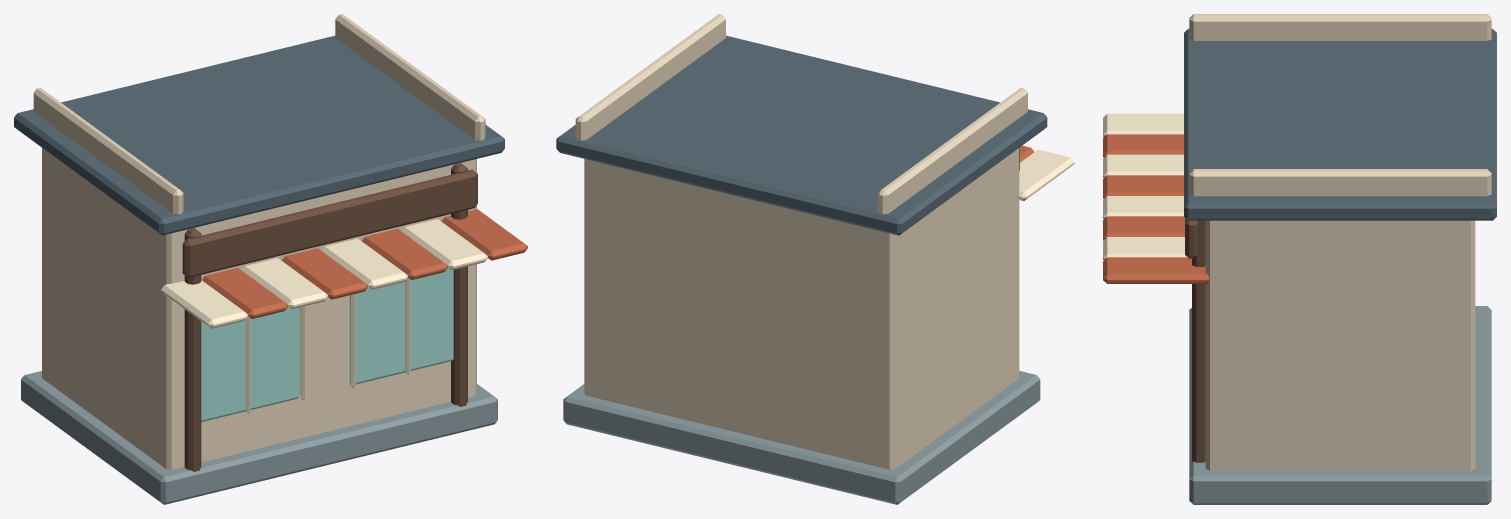
The model's file is detailed-storefront.glb.
3 renders of one model, left to right at view 1: azimuth 30°, elevation 25°; view 2: azimuth 150°, elevation 25°; view 3: azimuth 270°, elevation 25°, orthographic. The views are drawn at different scales.
Visible parts, largest first — view 1: shop-walls, flat-roof, shop-base, shop-sign, shop-window.001, shop-window, roof-trim, roof-trim.001, shop-corner, shop-corner.001, striped-canopy, striped-canopy.006 (+7 smaller); view 2: shop-walls, flat-roof, shop-base, roof-trim.001, roof-trim, striped-canopy; view 3: shop-walls, flat-roof, shop-base, roof-trim.001, roof-trim, shop-corner.001, striped-canopy.007, striped-canopy, striped-canopy.002, striped-canopy.006, striped-canopy.005, striped-canopy.001 (+3 smaller).
Part boxes in pixels (<box>): shop-walls: <box>42,148,476,469</box>; flat-roof: <box>14,35,504,235</box>; shop-base: <box>21,371,497,504</box>; shop-sign: <box>182,169,477,277</box>; shop-window.001: <box>349,268,453,384</box>; shop-window: <box>201,307,300,421</box>; roof-trim: <box>33,87,183,214</box>; roof-trim.001: <box>335,14,485,140</box>; shop-corner: <box>184,228,201,471</box>; shop-corner.001: <box>451,163,467,406</box>; striped-canopy: <box>161,280,248,328</box>; striped-canopy.006: <box>401,219,487,270</box>; shop-walls: <box>584,148,1019,469</box>; flat-roof: <box>556,35,1047,235</box>; shop-base: <box>563,371,1040,504</box>; roof-trim.001: <box>575,14,725,140</box>; roof-trim: <box>877,88,1027,214</box>; striped-canopy: <box>1018,149,1074,201</box>; shop-walls: <box>1205,220,1475,470</box>; flat-roof: <box>1184,28,1496,220</box>; shop-base: <box>1189,306,1491,504</box>; roof-trim.001: <box>1189,169,1491,196</box>; roof-trim: <box>1189,14,1491,40</box>; shop-corner.001: <box>1192,220,1205,462</box>; striped-canopy.007: <box>1103,257,1209,283</box>; striped-canopy: <box>1103,113,1183,136</box>; striped-canopy.002: <box>1103,154,1183,177</box>; striped-canopy.006: <box>1103,237,1187,259</box>; striped-canopy.005: <box>1103,216,1184,239</box>; striped-canopy.001: <box>1103,134,1183,157</box>.
Size of the model in its own units: 3.9 by 3.35 by 3.65.
